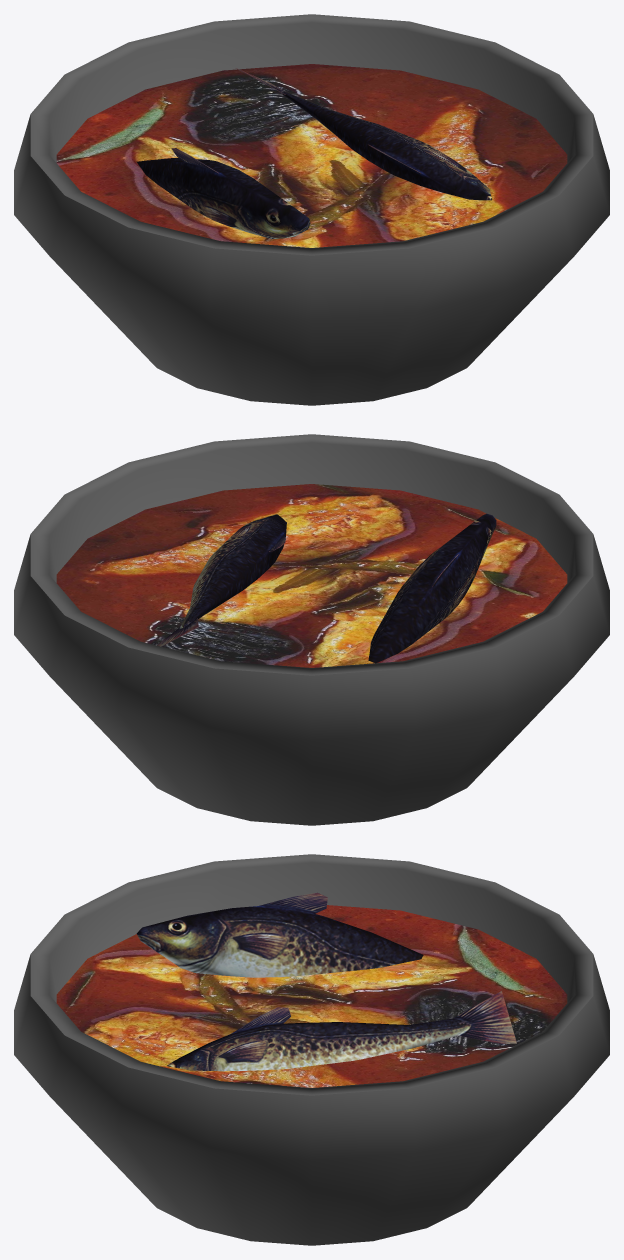
The model's file is fish_fat.fbx.
The picture shows the model from 3 angles, top to bottom: view 1: azimuth 30°, elevation 25°; view 2: azimuth 150°, elevation 25°; view 3: azimuth 270°, elevation 25°; orthographic projection.
Visible parts, largest first — view 1: venky1:pCylinder13, venky1:pCylinder14, pCube1, pCube2; view 2: venky1:pCylinder13, venky1:pCylinder14, pCube1, pCube2; view 3: venky1:pCylinder13, venky1:pCylinder14, pCube1, pCube2.
Boxes of the visible parts, x1=… form: venky1:pCylinder13: x1=14, y1=14, x2=609, y2=405; venky1:pCylinder14: x1=56, y1=64, x2=567, y2=247; pCube1: x1=136, y1=148, x2=310, y2=239; pCube2: x1=235, y1=68, x2=491, y2=200; venky1:pCylinder13: x1=14, y1=434, x2=609, y2=825; venky1:pCylinder14: x1=56, y1=484, x2=567, y2=667; pCube1: x1=368, y1=513, x2=496, y2=663; pCube2: x1=157, y1=514, x2=286, y2=646; venky1:pCylinder13: x1=14, y1=854, x2=609, y2=1245; venky1:pCylinder14: x1=56, y1=905, x2=567, y2=1087; pCube1: x1=136, y1=892, x2=423, y2=977; pCube2: x1=167, y1=991, x2=516, y2=1071.
Bounding box in the file's own units: 46.99 × 18.19 × 46.27.
